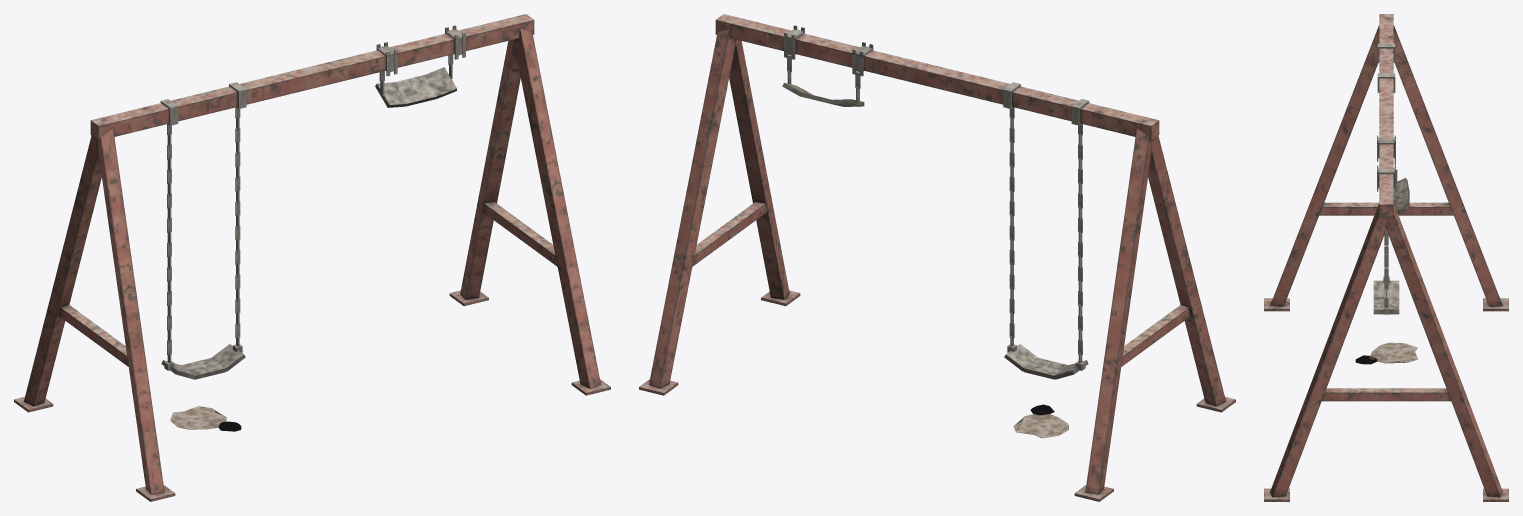
File: swing_set.fbx
3 renders of one model, left to right at view 1: azimuth 30°, elevation 25°; view 2: azimuth 150°, elevation 25°; view 3: azimuth 270°, elevation 25°, orthographic. The views are drawn at different scales.
Visible parts, largest first — view 1: Body; view 2: Body; view 3: Body.
Part boxes in pixels (bbox=[...]): Body: bbox=[14, 14, 610, 501]; Body: bbox=[639, 14, 1235, 501]; Body: bbox=[1264, 14, 1508, 501].
Size of the model in its own units: 14.8 by 10.23 by 7.6.
1 material, 1 textured.
